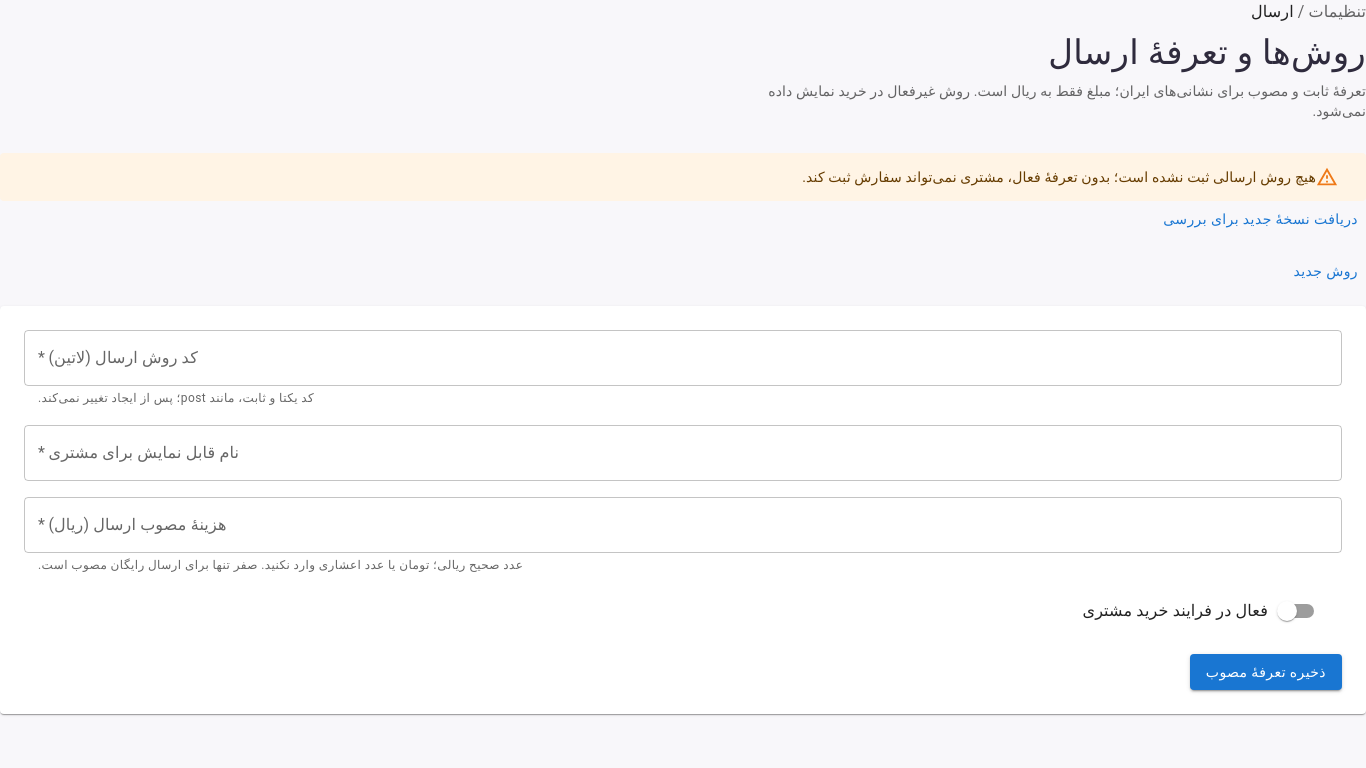
Test: Admin approved shipping tariffs › locks the exact payload and retries the same key after an uncertain response
Expected: the text "هیچ روش ارسالی ثبت نشده است" is shown, x1=802 y1=169 x2=1316 y2=185
Type "post" into the field labelled "کد روش ارسال (لاتین) *" at (683, 358), box x1=24 y1=330 x2=1342 y2=386
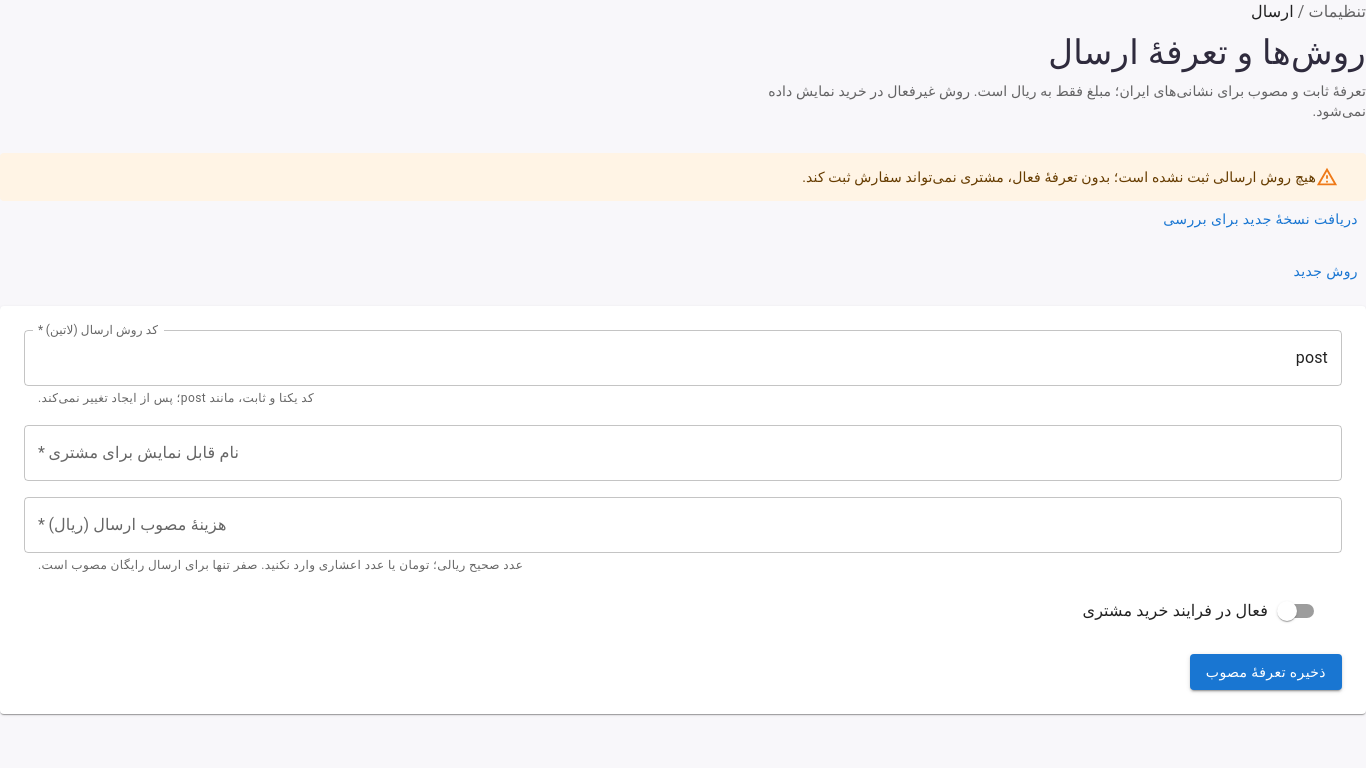
Type "پست" into the field labelled "نام قابل نمایش برای مشتری *" at (683, 453), box x1=24 y1=425 x2=1342 y2=481
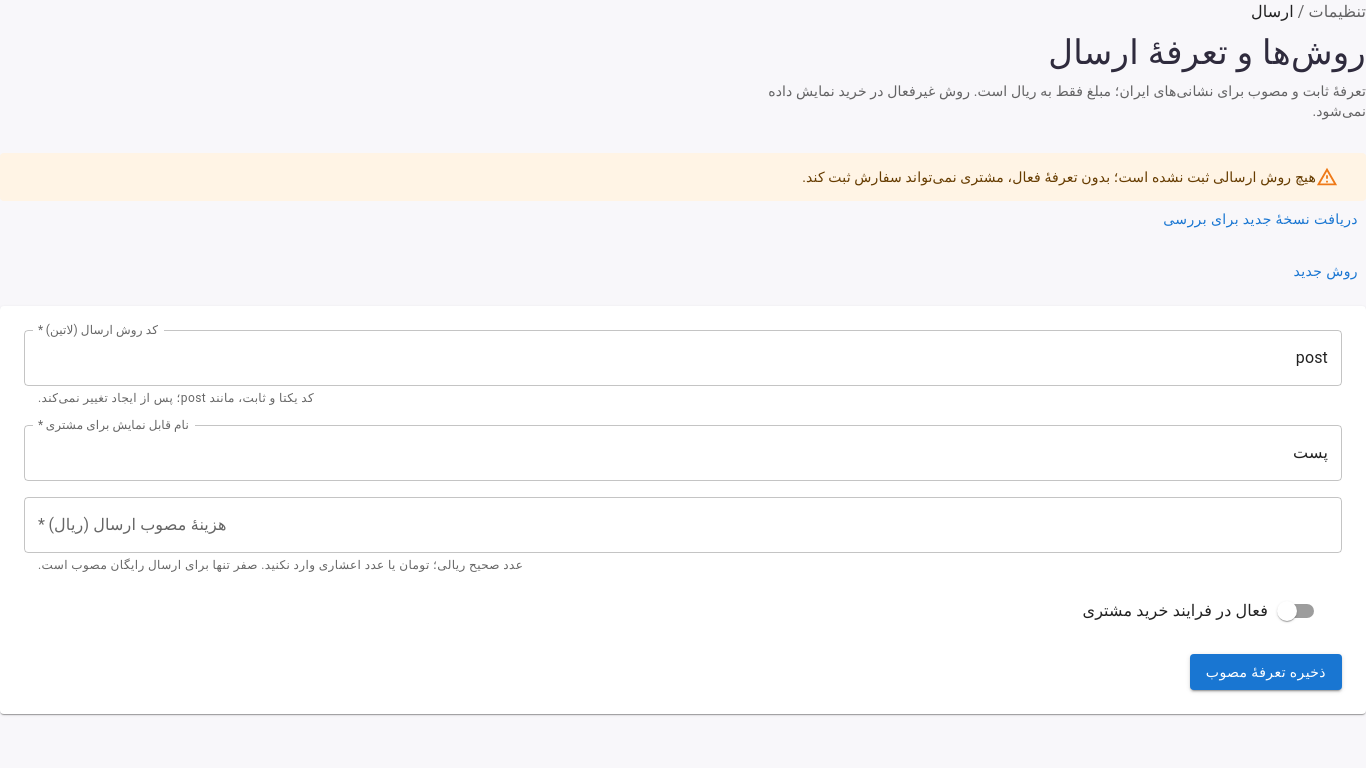
Type "۵۰۰۰۰" into the field labelled "هزینهٔ مصوب ارسال (ریال) *" at (683, 525), box x1=24 y1=497 x2=1342 y2=553
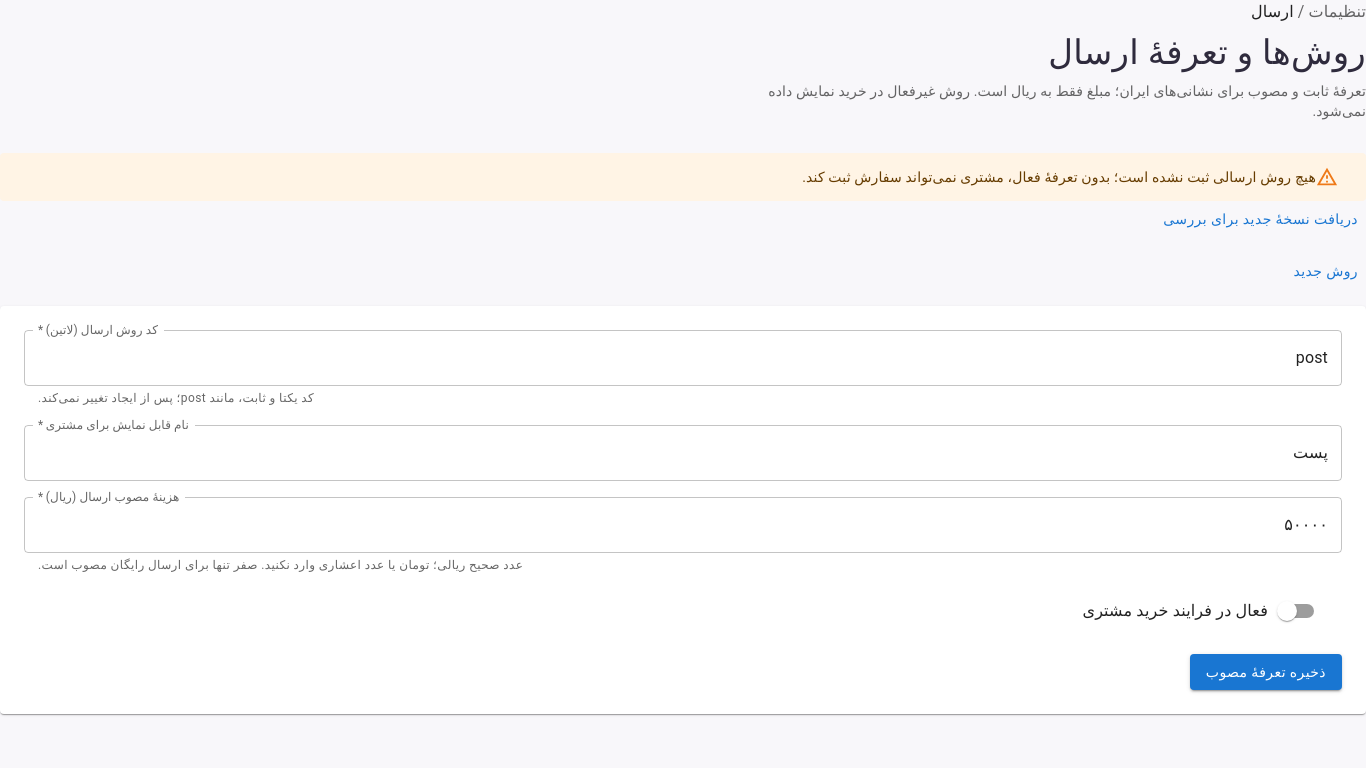
Click the button "ذخیره تعرفهٔ مصوب" at (1266, 672), box x1=1190 y1=654 x2=1342 y2=690
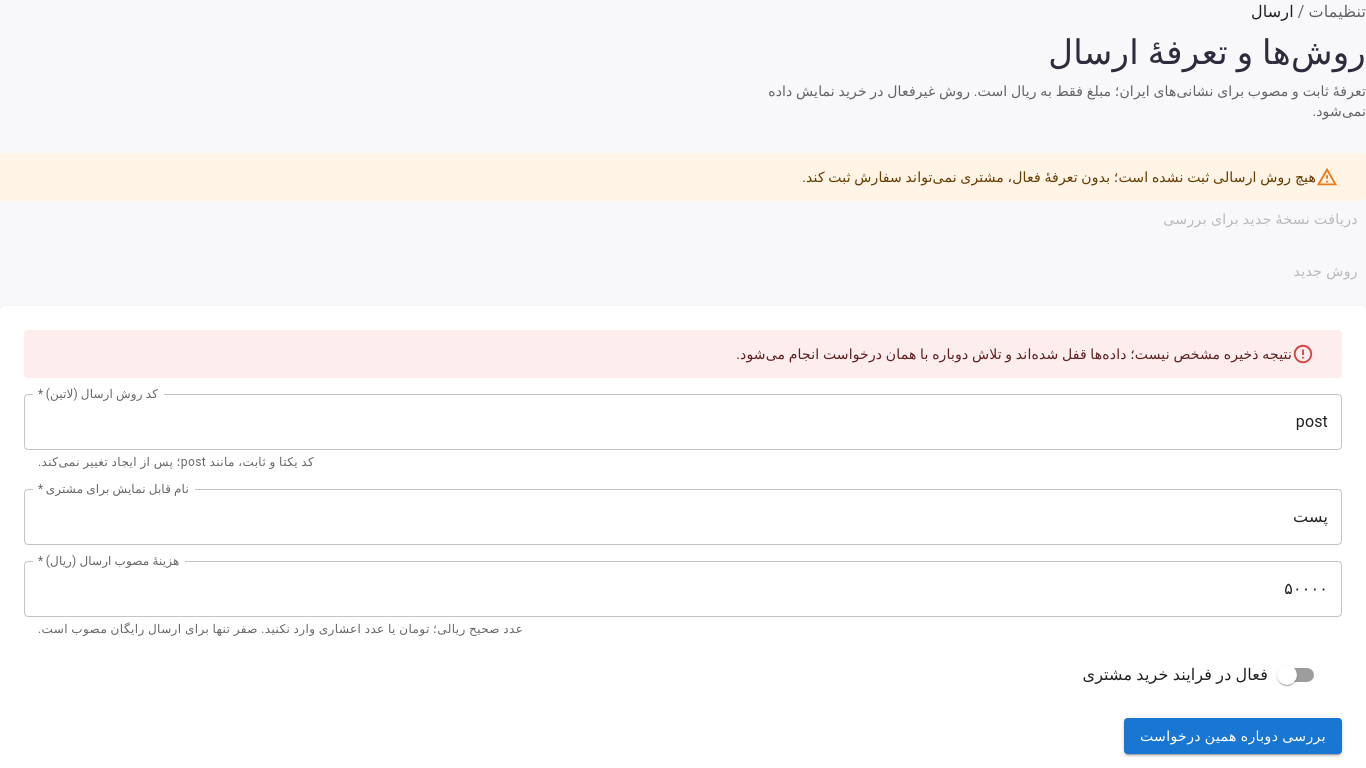
Expected: the field labelled "هزینهٔ مصوب ارسال (ریال) *" is disabled, x1=24 y1=561 x2=1342 y2=617
Result: the text "نتیجه ذخیره مشخص نیست" is shown at x1=736 y1=346 x2=1292 y2=362
Click the button "بررسی دوباره همین درخواست" at (1233, 736), box x1=1124 y1=718 x2=1342 y2=754
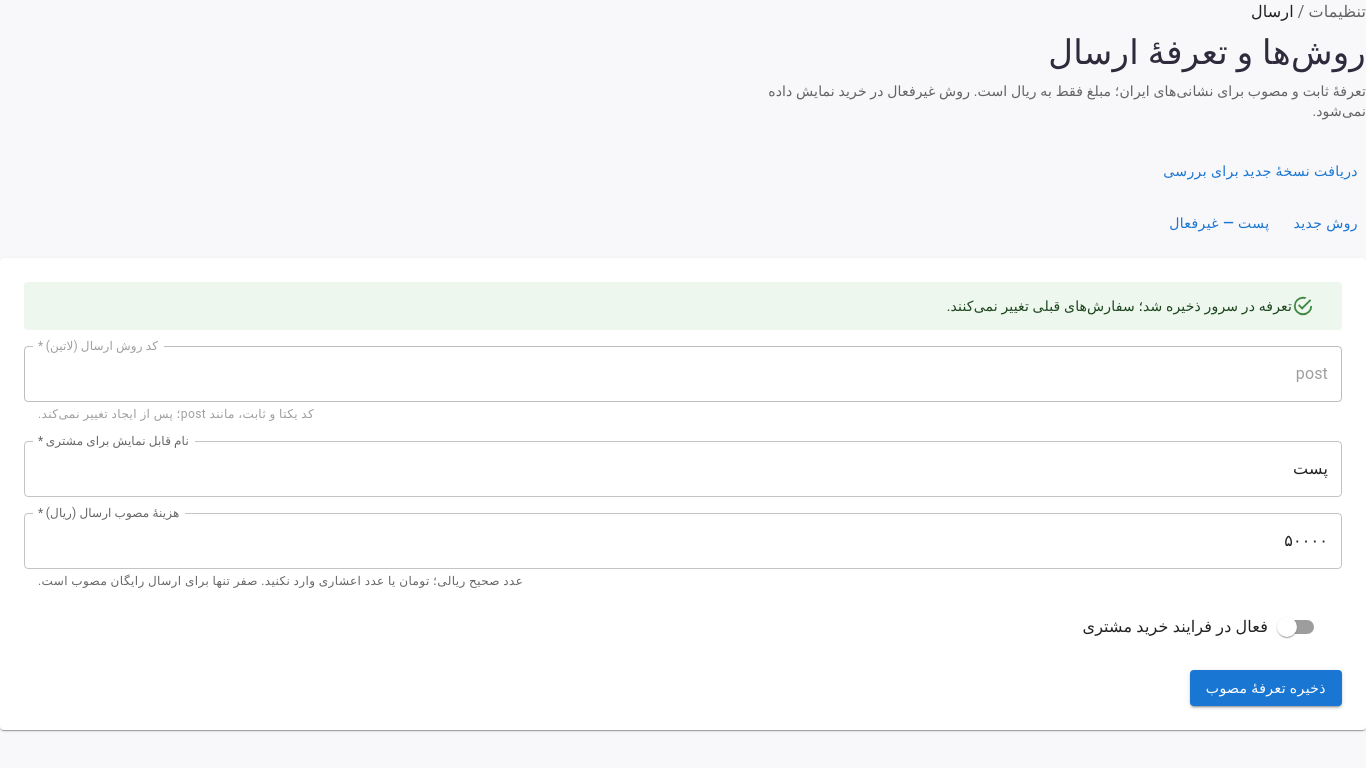
Result: the text "تعرفه در سرور ذخیره شد؛ سفارش‌های قبلی تغییر نمی‌کنند." is shown at x1=947 y1=298 x2=1292 y2=314
